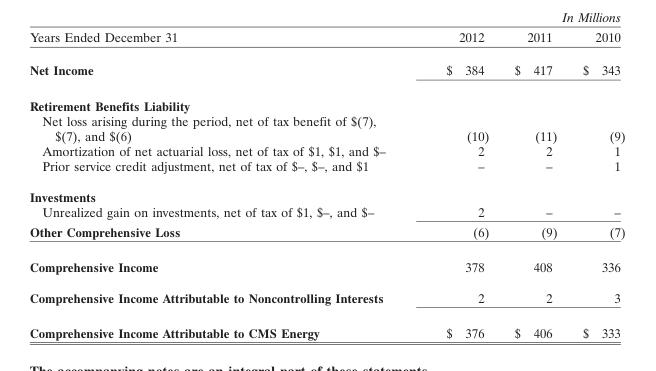table: (28, 29, 624, 340)
table column: (28, 29, 415, 340), (415, 29, 501, 340), (501, 29, 569, 340), (569, 29, 624, 340)
table column header: (28, 29, 624, 53)
table projected row header: (28, 87, 624, 112), (28, 181, 624, 203)
table row: (28, 53, 624, 87), (28, 281, 624, 314), (28, 249, 624, 281), (28, 112, 624, 143), (28, 221, 624, 249), (28, 314, 624, 340), (28, 87, 624, 112), (28, 29, 624, 53), (28, 158, 624, 181), (28, 181, 624, 203), (28, 203, 624, 221), (28, 143, 624, 158)
